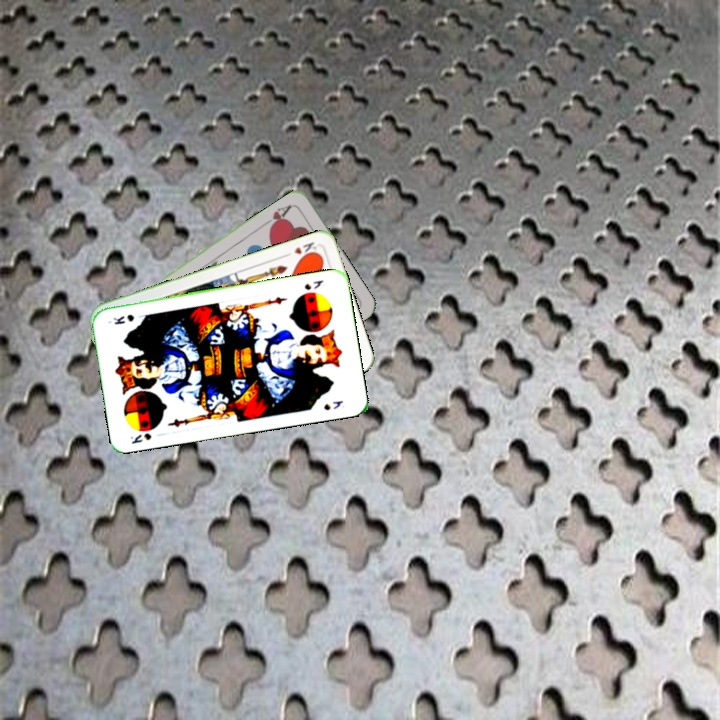HA: (259, 201, 294, 232)
HK: (290, 238, 320, 261)
SK: (127, 429, 154, 446), (301, 276, 326, 293)
